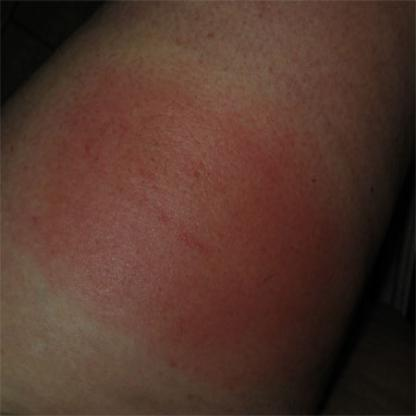Wasp: (45, 66, 328, 381)
